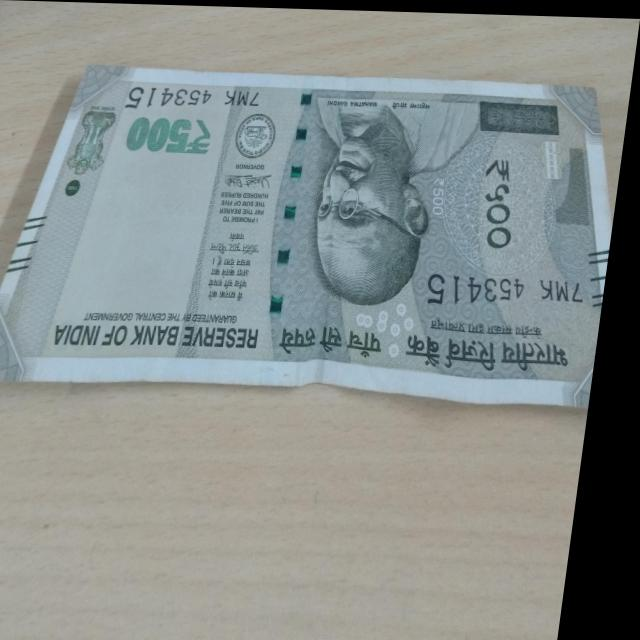Currency: (8, 47, 635, 397)
